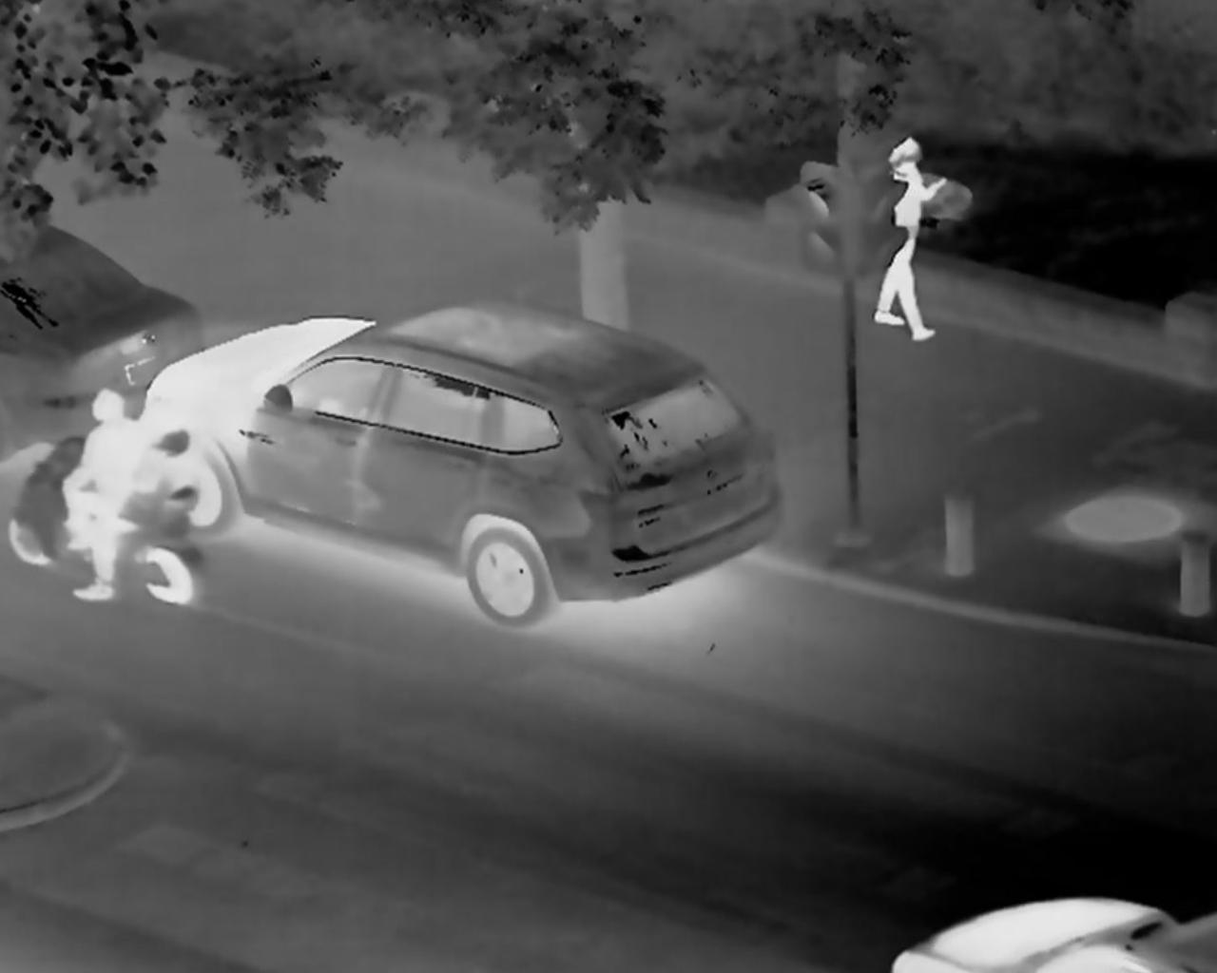person: (887, 140, 943, 361), (75, 386, 141, 499), (68, 500, 142, 587), (140, 436, 193, 534)
